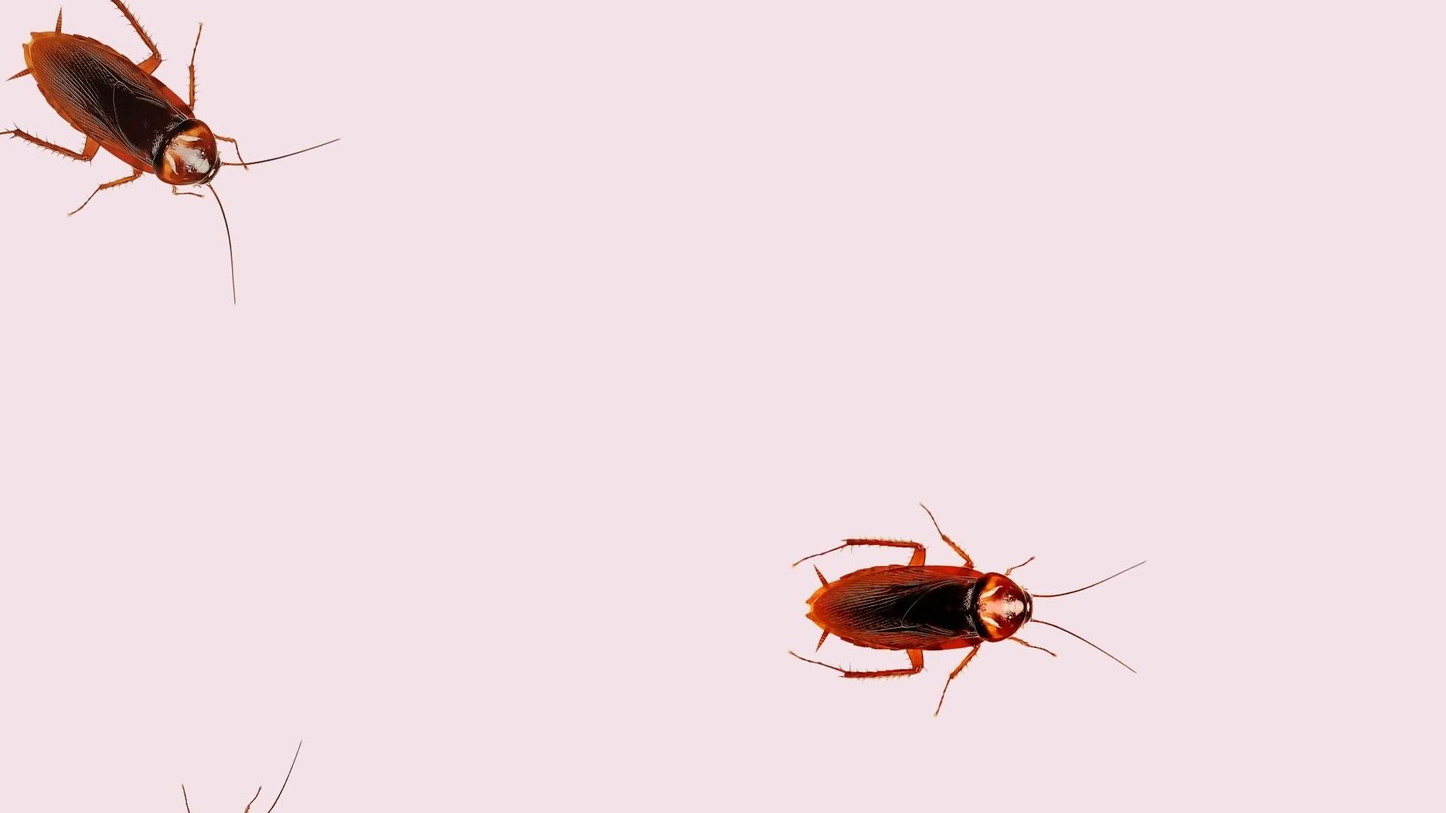cockroach: (6, 13, 330, 310), (761, 488, 1153, 726)
